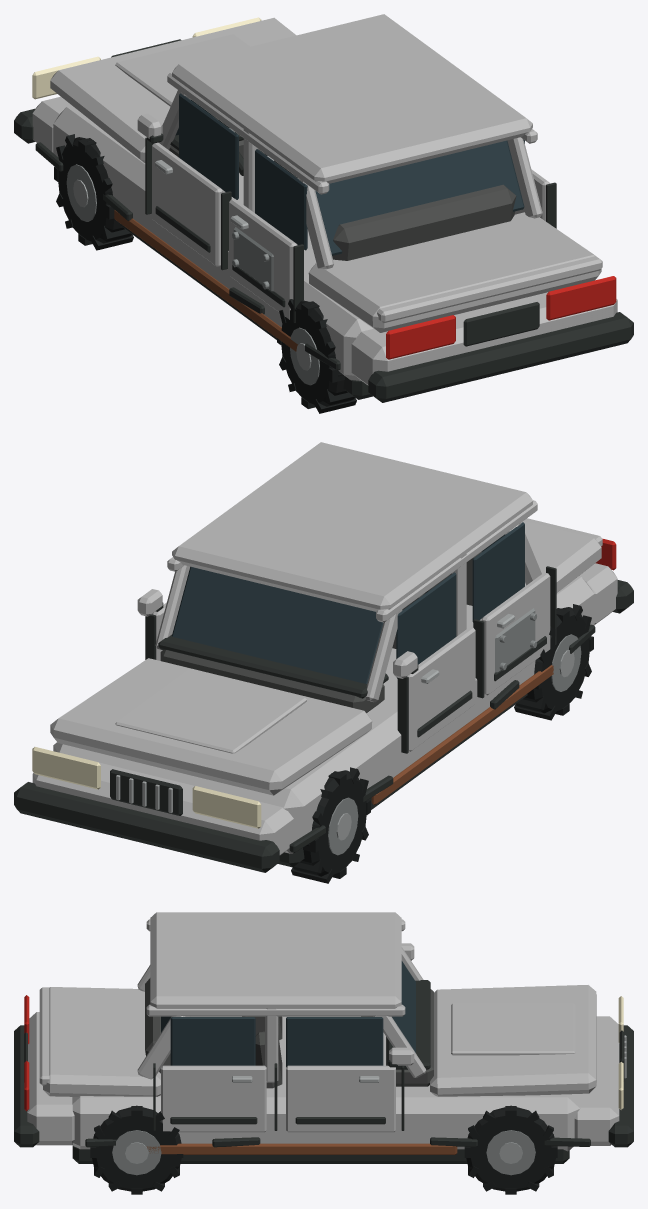
The model's file is sedan.glb.
3 renders of one model, top to bottom at view 1: azimuth 30°, elevation 25°; view 2: azimuth 150°, elevation 25°; view 3: azimuth 270°, elevation 25°, orthographic. The views are drawn at different scales.
Parts seen in each view (by area): view 1: sedan, Wheel_FL, Wheel_RL; view 2: sedan, Wheel_FL, Wheel_RL; view 3: sedan, Wheel_FR, Wheel_RR.
Part boxes in pixels (<box>): sedan: <box>14,14,633,402</box>; Wheel_FL: <box>54,134,133,250</box>; Wheel_RL: <box>277,299,356,413</box>; sedan: <box>14,442,633,872</box>; Wheel_FL: <box>291,767,370,883</box>; Wheel_RL: <box>514,604,593,720</box>; sedan: <box>14,912,633,1163</box>; Wheel_FR: <box>464,1105,557,1194</box>; Wheel_RR: <box>90,1105,183,1194</box>.
Size of the model in its own units: 1.88 by 1.46 by 4.39.
